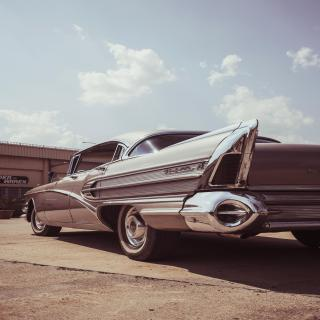Normal_vehicle: (20, 118, 320, 267)
